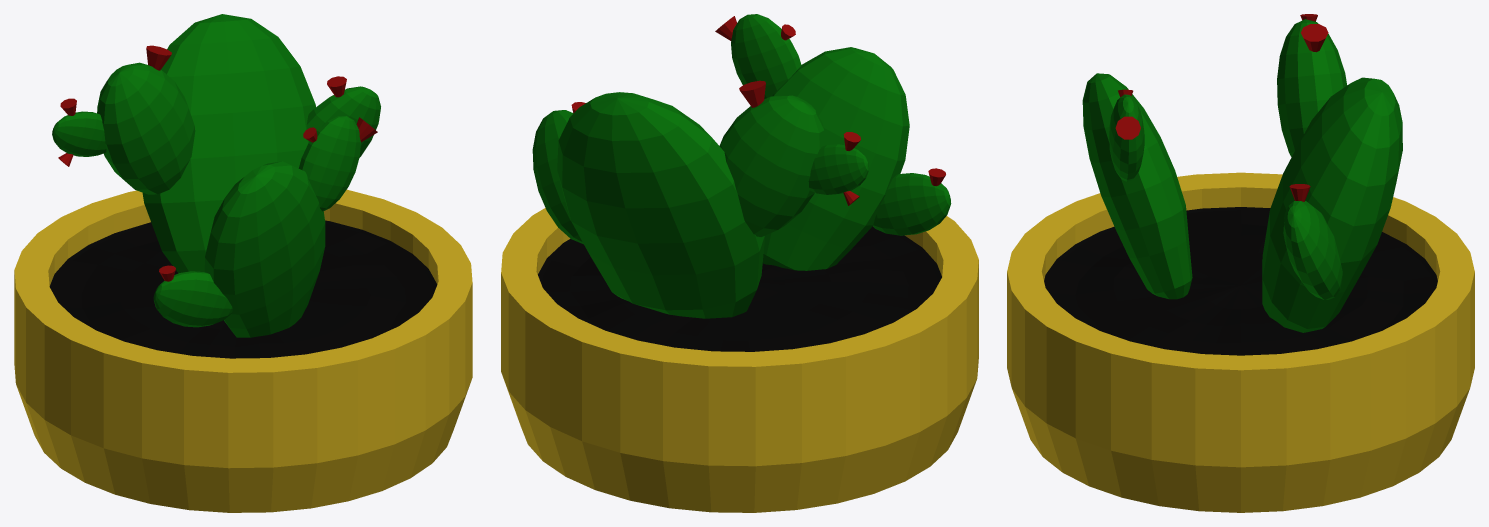
The model's file is cactus_in_pot.obj.
3 renders of one model, left to right at view 1: azimuth 30°, elevation 25°; view 2: azimuth 150°, elevation 25°; view 3: azimuth 270°, elevation 25°, orthographic. The views are drawn at different scales.
Parts seen in each view (by area): view 1: Cylinder, Sphere, Sphere.001, Sphere.002, Sphere.005, Sphere.003, Sphere.004, Sphere.006, Sphere.007; view 2: Cylinder, Sphere.001, Sphere, Sphere.002, Sphere.005, Sphere.003, Sphere.004, Sphere.006, Sphere.007; view 3: Cylinder, Sphere, Sphere.001, Sphere.002, Sphere.005, Sphere.006, Sphere.003, Cylinder.001.
Boxes of the visible parts, bbox=[...] form: Cylinder: bbox=[14, 189, 472, 512]; Sphere: bbox=[49, 220, 437, 358]; Sphere.001: bbox=[142, 14, 315, 273]; Sphere.002: bbox=[204, 161, 325, 337]; Sphere.005: bbox=[97, 62, 195, 194]; Sphere.003: bbox=[298, 116, 360, 211]; Sphere.004: bbox=[153, 271, 232, 327]; Sphere.006: bbox=[306, 86, 380, 157]; Sphere.007: bbox=[52, 111, 106, 156]; Cylinder: bbox=[501, 208, 978, 512]; Sphere.001: bbox=[557, 92, 764, 318]; Sphere: bbox=[538, 226, 941, 351]; Sphere.002: bbox=[762, 47, 909, 270]; Sphere.005: bbox=[719, 95, 825, 237]; Sphere.003: bbox=[731, 14, 801, 98]; Sphere.004: bbox=[873, 173, 951, 235]; Sphere.006: bbox=[532, 110, 583, 244]; Sphere.007: bbox=[808, 144, 869, 194]; Cylinder: bbox=[1007, 172, 1474, 512]; Sphere: bbox=[1044, 207, 1437, 355]; Sphere.001: bbox=[1262, 77, 1402, 332]; Sphere.002: bbox=[1082, 73, 1192, 299]; Sphere.005: bbox=[1277, 19, 1347, 156]; Sphere.006: bbox=[1283, 201, 1342, 299]; Sphere.003: bbox=[1109, 94, 1144, 181]; Cylinder.001: bbox=[1301, 24, 1328, 52].
Size of the model in its own units: 2 by 1.74 by 2.
